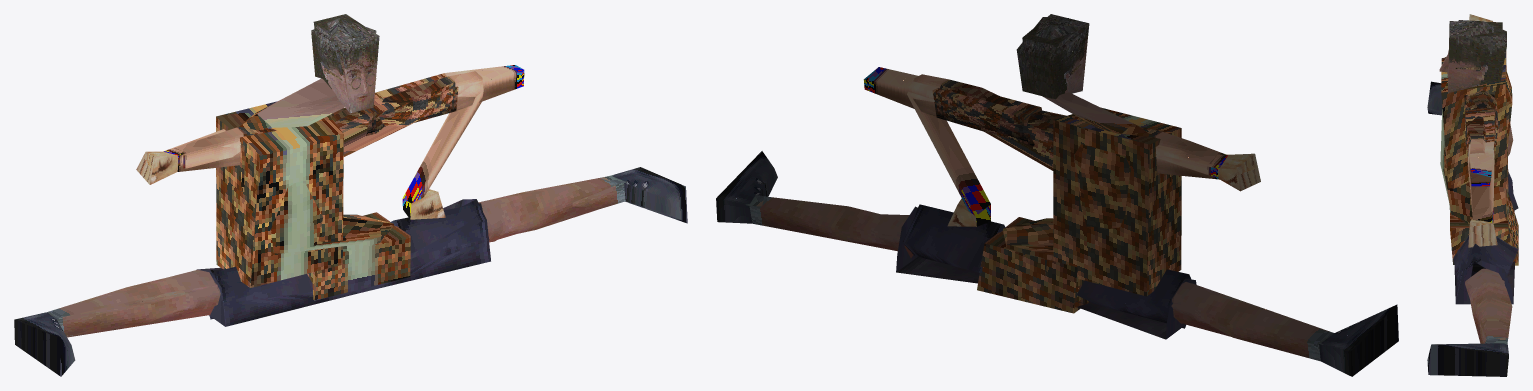
File: CborisZ.obj
The picture shows the model from 3 angles, left to right: view 1: azimuth 30°, elevation 25°; view 2: azimuth 150°, elevation 25°; view 3: azimuth 270°, elevation 25°; orthographic projection. The views are drawn at different scales.
Size of the model in its own units: 2101 by 862 by 309.
Materials: 23 (23 with a texture image).
